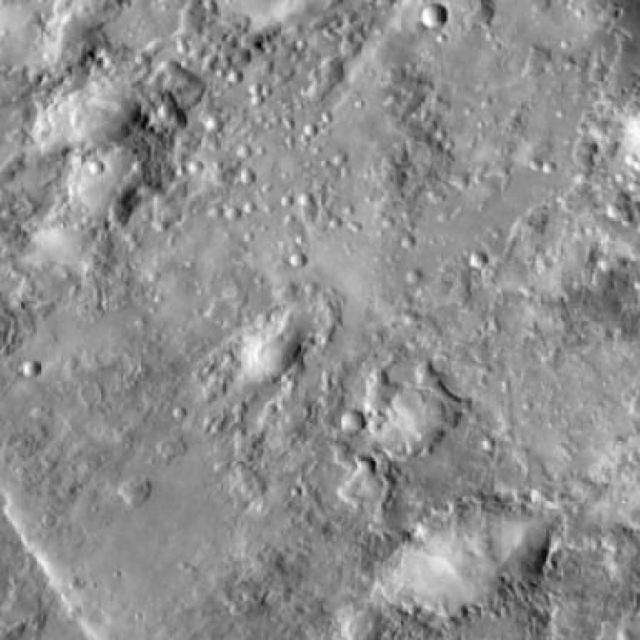crater: (410, 6, 438, 31), (332, 408, 356, 430), (13, 363, 32, 380), (80, 168, 98, 184), (466, 261, 482, 276)
